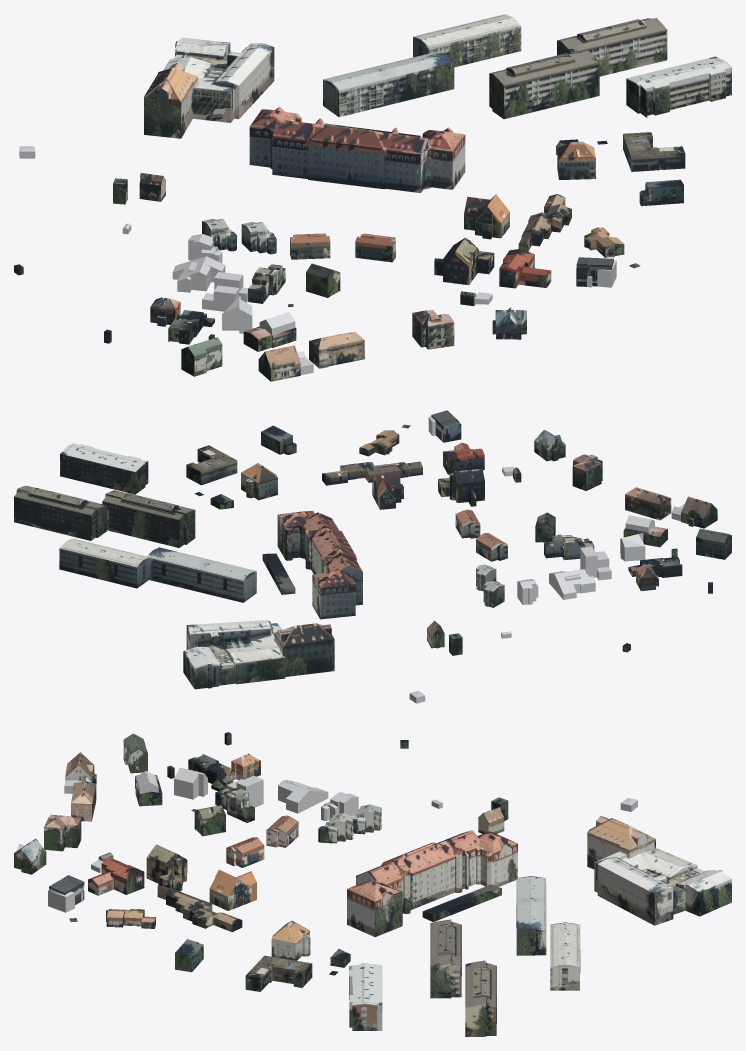
Rendered from buildings.glb.
3 renders of one model, top to bottom at view 1: azimuth 30°, elevation 25°; view 2: azimuth 150°, elevation 25°; view 3: azimuth 270°, elevation 25°, orthographic. The views are drawn at different scales.
Visible parts, largest first — view 1: buildings; view 2: buildings; view 3: buildings.
Part boxes in pixels (bbox=[...]): buildings: bbox=[14, 14, 731, 381]; buildings: bbox=[14, 410, 731, 703]; buildings: bbox=[14, 732, 731, 1036].
Bounding box in the file's own units: 325 × 29.12 × 312.
Materials: 3 (2 with a texture image).
